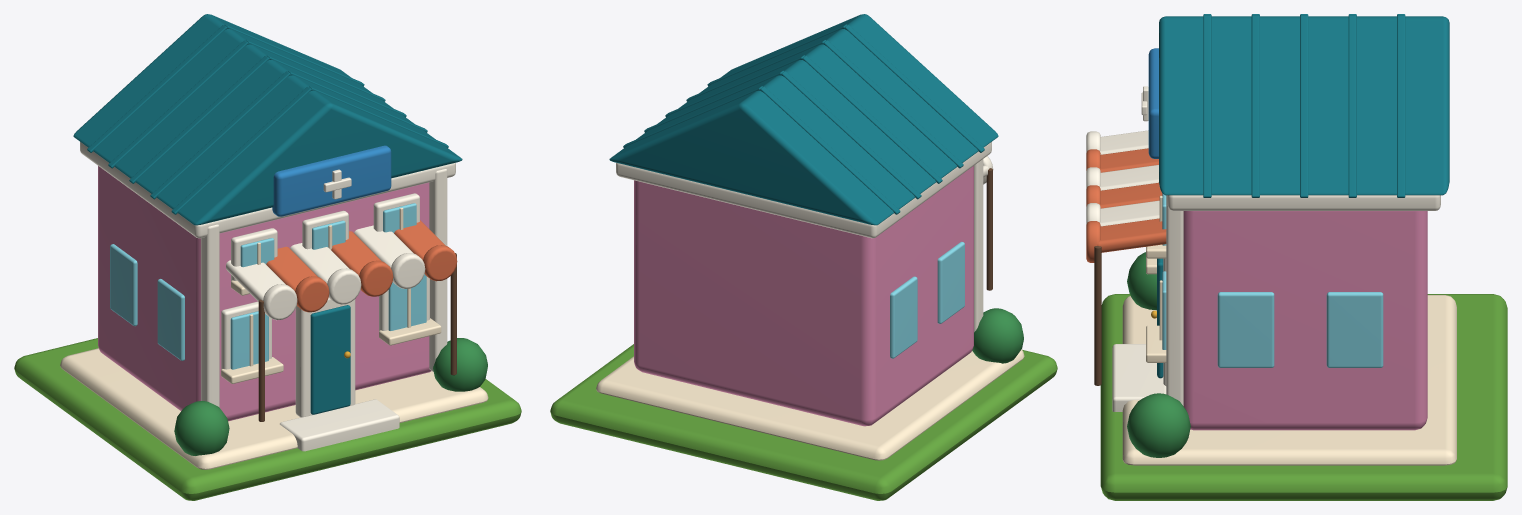
The model's file is services.fbx.
3 renders of one model, left to right at view 1: azimuth 30°, elevation 25°; view 2: azimuth 150°, elevation 25°; view 3: azimuth 270°, elevation 25°, orthographic. The views are drawn at different scales.
Visible parts, largest first — view 1: Roof.007, Plaster facade.007, Raised garden plot.007, Paved foundation.007, Community sign, Entrance.007, Entrance step.007, Cornice.007, Corner trim.014, Door frame.007, Corner trim.015, Clipped shrub.014 (+34 smaller); view 2: Plaster facade.007, Roof.007, Raised garden plot.007, Paved foundation.007, Cornice.007, Clipped shrub.014, Side window.029, Side window.028, Corner trim.014, Roof seam.071, Roof seam.073, Roof seam.074 (+3 smaller); view 3: Roof.007, Plaster facade.007, Raised garden plot.007, Paved foundation.007, Side window.030, Side window.031, Cornice.007, Corner trim.015, Clipped shrub.015, Entrance step.007, Striped awning.011, Roof seam.075 (+14 smaller).
Boxes of the visible parts, <box> form: Roof.007: <box>73,14,462,225</box>; Plaster facade.007: <box>98,166,431,421</box>; Raised garden plot.007: <box>14,338,521,500</box>; Paved foundation.007: <box>60,348,488,469</box>; Community sign: <box>272,145,391,216</box>; Entrance.007: <box>310,305,350,414</box>; Entrance step.007: <box>280,399,399,451</box>; Cornice.007: <box>80,142,455,238</box>; Corner trim.014: <box>201,224,219,407</box>; Door frame.007: <box>295,297,355,417</box>; Corner trim.015: <box>429,169,447,372</box>; Clipped shrub.014: <box>174,401,229,455</box>; Plaster facade.007: <box>634,166,973,426</box>; Roof.007: <box>609,14,998,225</box>; Raised garden plot.007: <box>550,344,1057,500</box>; Paved foundation.007: <box>596,349,1024,460</box>; Cornice.007: <box>616,142,991,238</box>; Clipped shrub.014: <box>972,308,1023,363</box>; Side window.029: <box>890,276,917,358</box>; Side window.028: <box>937,241,964,323</box>; Corner trim.014: <box>974,159,983,332</box>; Roof seam.071: <box>823,40,963,168</box>; Roof seam.073: <box>781,71,921,199</box>; Roof seam.074: <box>760,86,900,214</box>; Roof.007: <box>1159,16,1449,195</box>; Plaster facade.007: <box>1183,211,1427,430</box>; Raised garden plot.007: <box>1100,294,1507,500</box>; Paved foundation.007: <box>1122,295,1456,465</box>; Side window.030: <box>1217,292,1274,367</box>; Side window.031: <box>1326,292,1383,367</box>; Cornice.007: <box>1167,195,1440,210</box>; Corner trim.015: <box>1166,195,1183,405</box>; Clipped shrub.015: <box>1127,393,1190,457</box>; Entrance step.007: <box>1112,344,1166,411</box>; Striped awning.011: <box>1097,218,1166,252</box>; Roof seam.075: <box>1203,15,1211,197</box>.
Size of the model in its own units: 3.1 by 3.01 by 2.9.
